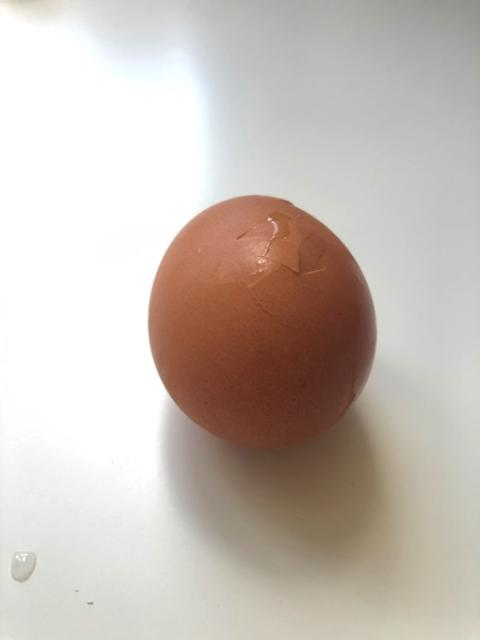Roto: (146, 192, 378, 450)
